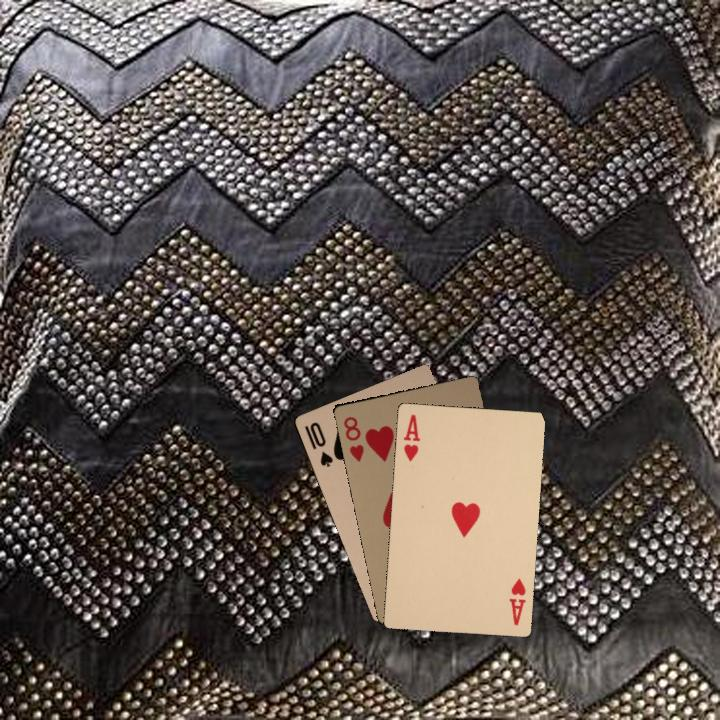10s: (301, 418, 335, 469)
8h: (339, 412, 366, 463)
Ah: (399, 410, 422, 464), (506, 574, 529, 628)
